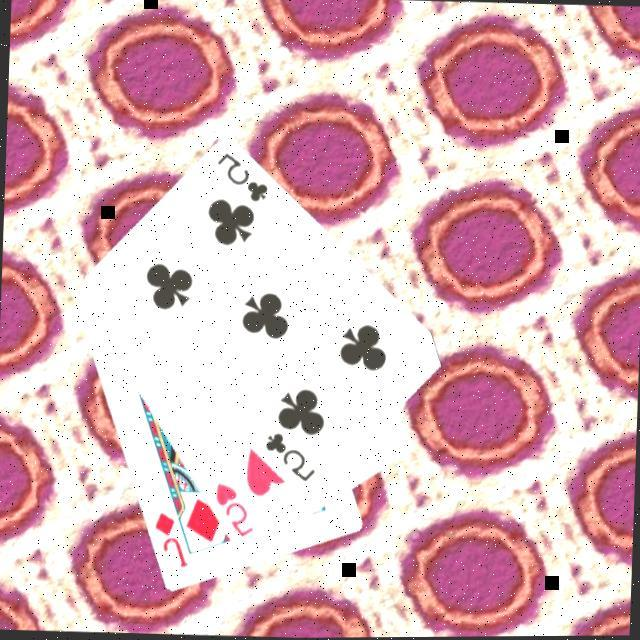5C: (258, 431, 318, 488), (211, 151, 271, 207)
5H: (209, 481, 258, 543)
JD: (148, 510, 192, 573)
